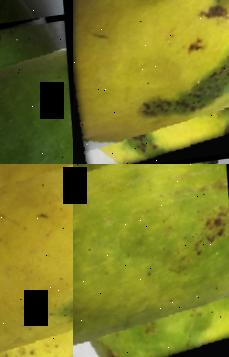PartiallyRipe: (73, 164, 229, 357)
Ripe: (73, 0, 229, 164), (0, 164, 73, 357)
Unripe: (0, 19, 73, 164)
